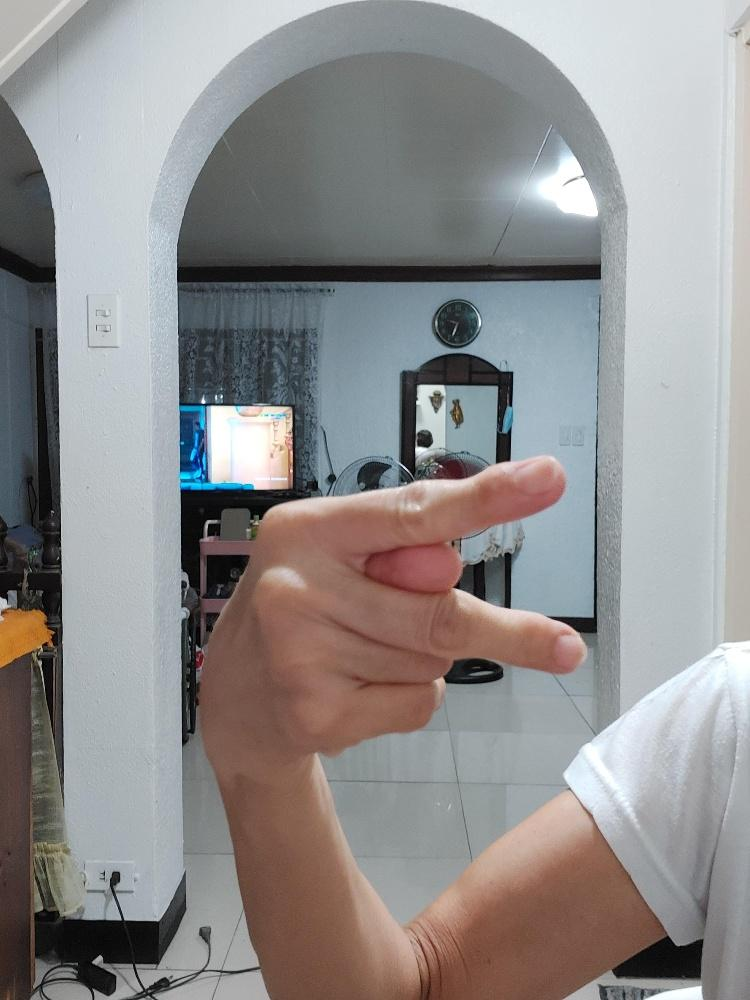k: (198, 453, 587, 757)
